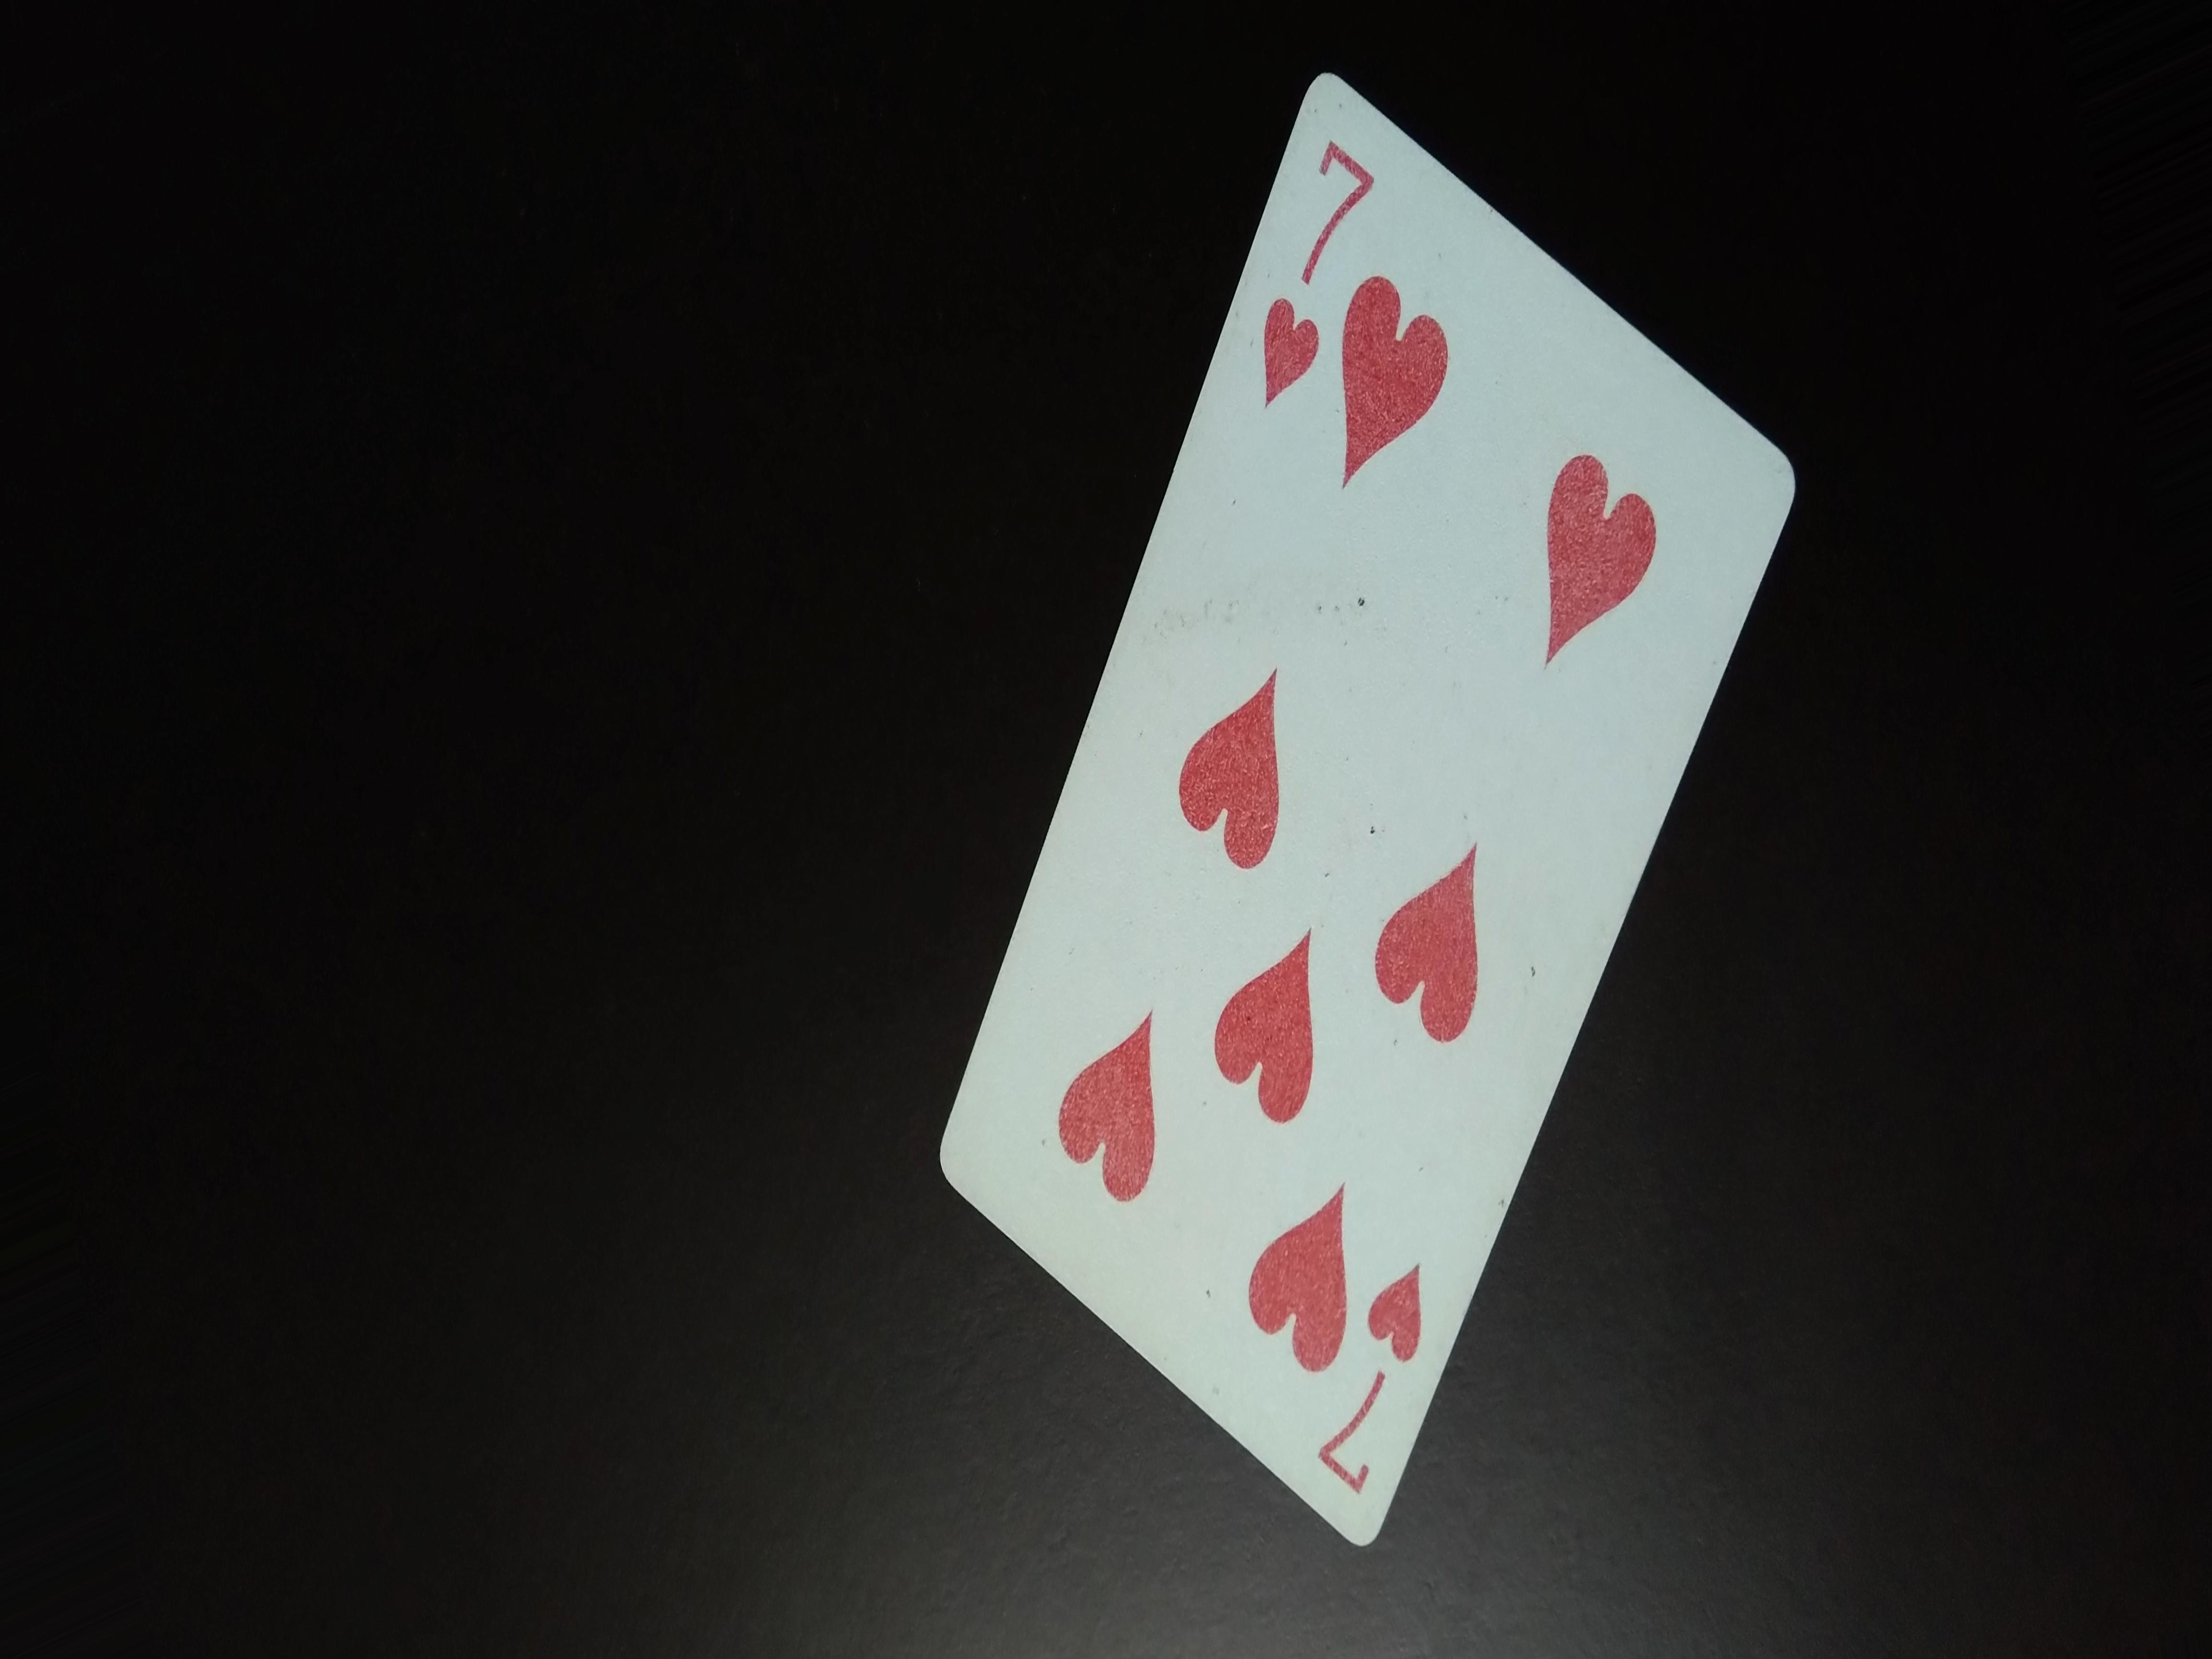7H: (1244, 115, 1376, 420)
